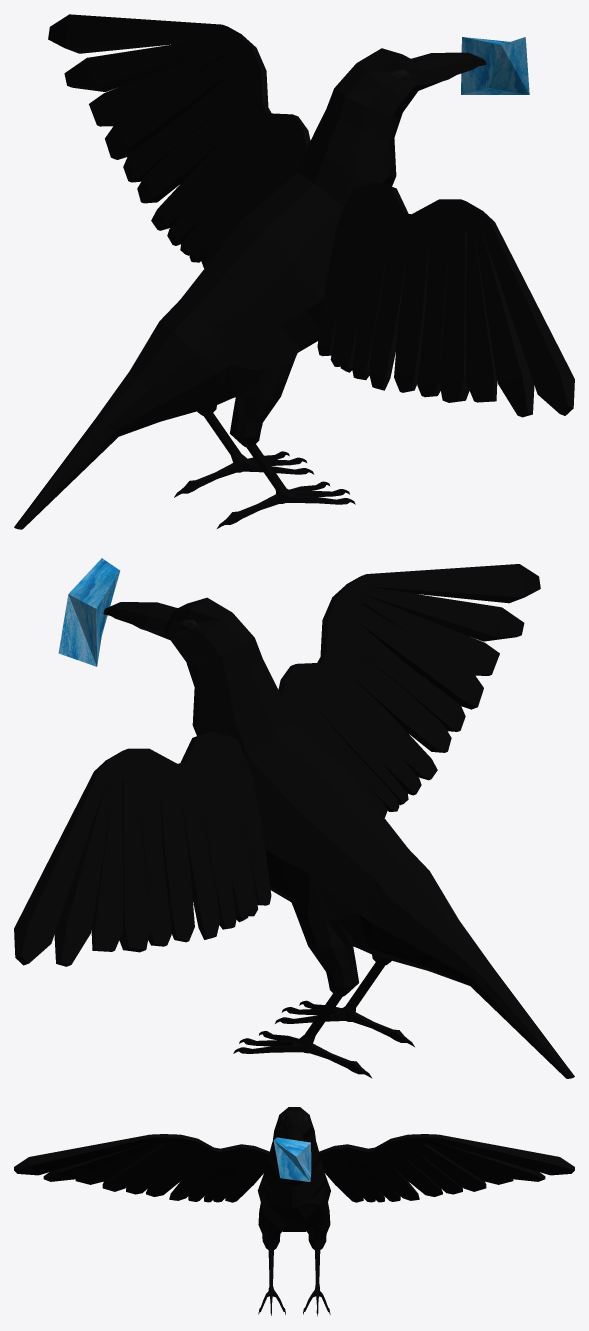
File: Crow4.obj
The picture shows the model from 3 angles, top to bottom: view 1: azimuth 30°, elevation 25°; view 2: azimuth 150°, elevation 25°; view 3: azimuth 270°, elevation 25°; orthographic projection. The views are drawn at different scales.
Visible parts, largest first — view 1: Cylinder, Cube; view 2: Cylinder, Cube; view 3: Cylinder, Cube.
Part boxes in pixels (left/top/right/bottom): Cylinder: left=14, top=14, right=574, bottom=529; Cube: left=461, top=37, right=529, bottom=94; Cylinder: left=14, top=564, right=574, bottom=1078; Cube: left=58, top=558, right=120, bottom=666; Cylinder: left=14, top=1107, right=574, bottom=1316; Cube: left=273, top=1137, right=311, bottom=1181.
Size of the model in its own units: 0.8111 by 0.6374 by 1.44.
3 materials, 2 textured.
